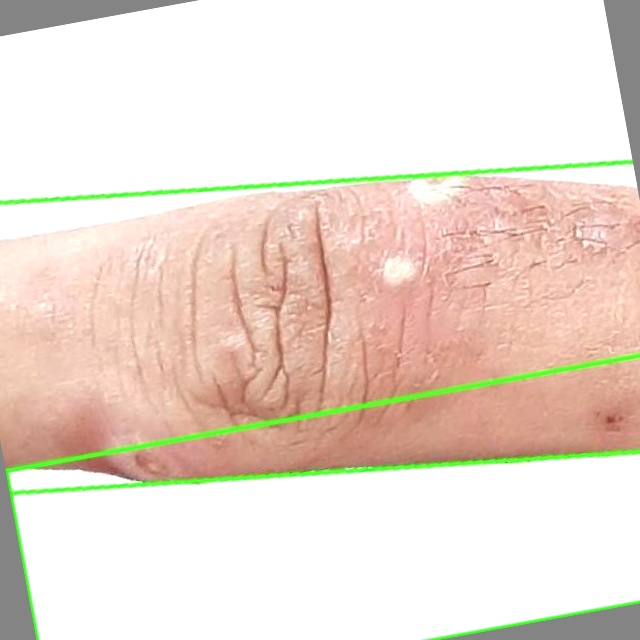Scabies: (0, 165, 639, 491), (6, 355, 639, 639)
